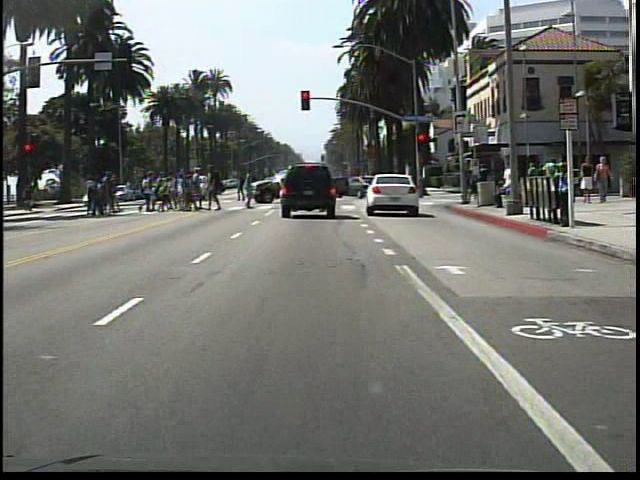person: (551, 156, 570, 229), (594, 153, 612, 206), (578, 155, 597, 205)
